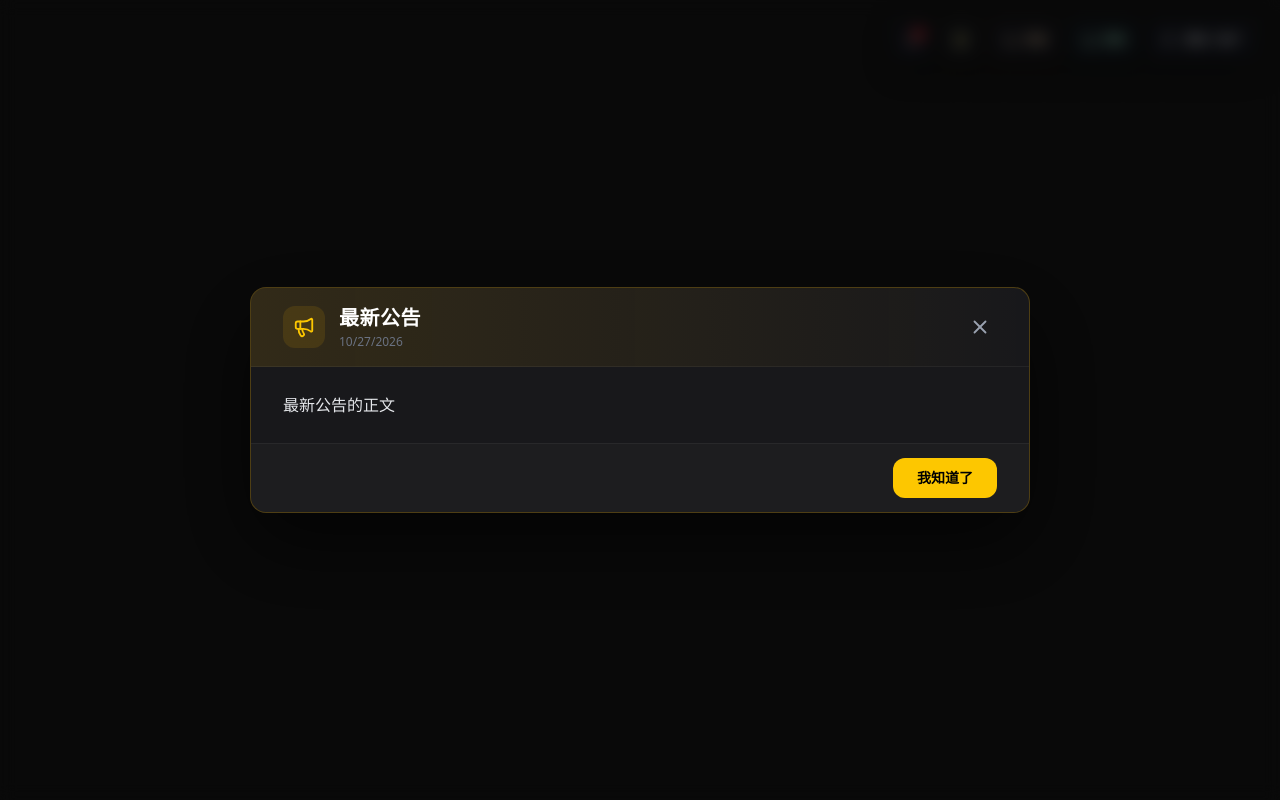
Scenario: announcement popup › pops only the newest unread announcement for a new user, and does not chain to the next one
Expected: the dialog shows "最新公告的正文", top-left (283, 394), bottom-right (395, 416)
Click the button "我知道了": [945, 478] box top-left (893, 458), bottom-right (997, 498)
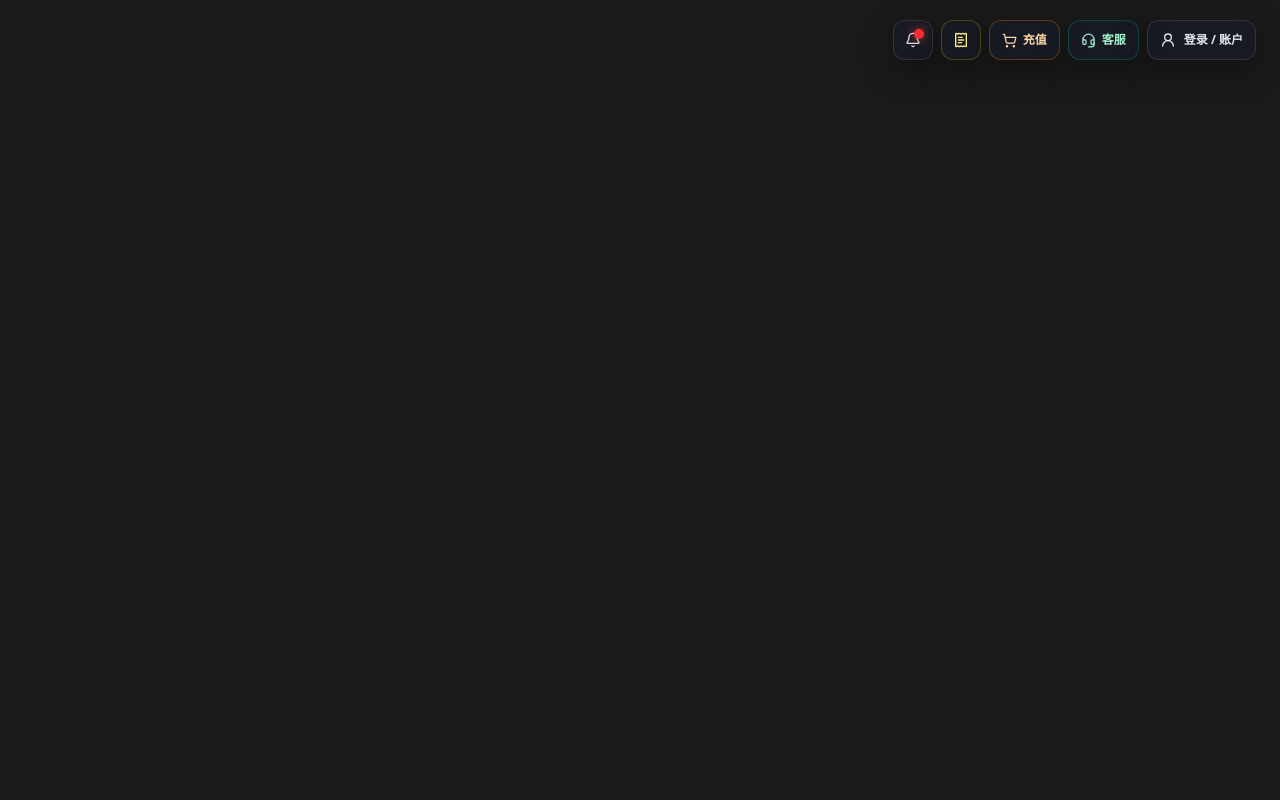
Expected: the dialog is gone
